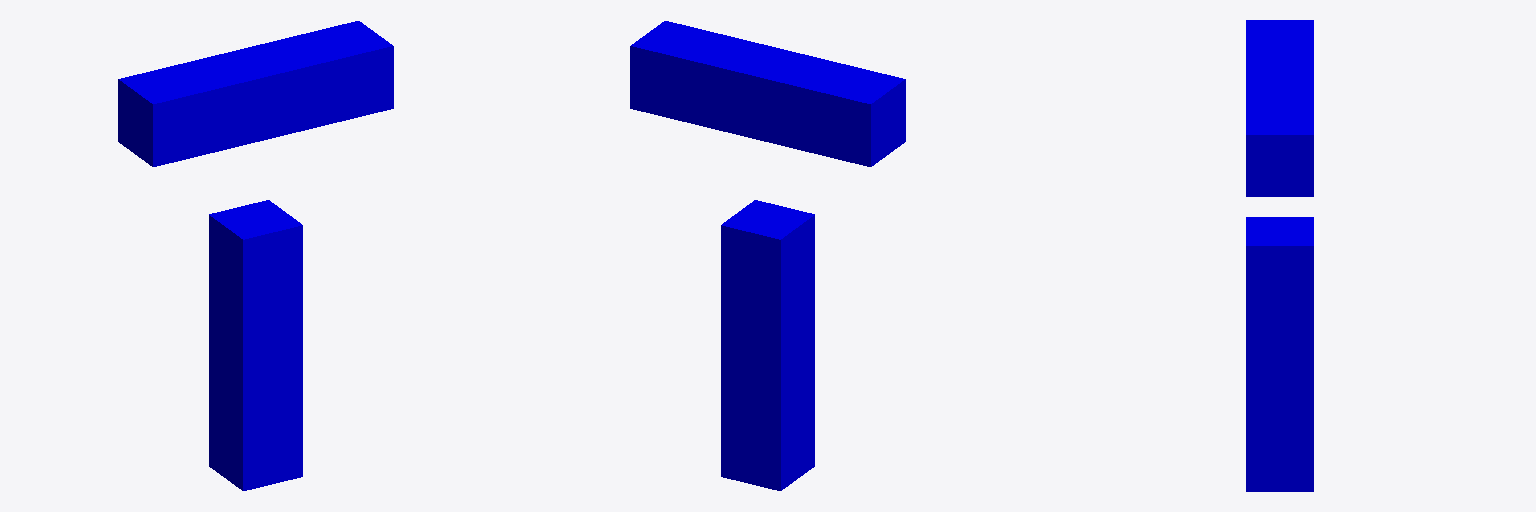
URDF robot description (suction_gripper):
<?xml version="1.0" ?>
<!-- =================================================================================== -->
<!-- |    This document was autogenerated by xacro from suction_gripper.xacro          | -->
<!-- |    EDITING THIS FILE BY HAND IS NOT RECOMMENDED                                 | -->
<!-- =================================================================================== -->
<robot name="suction_gripper" xmlns:xacro="http://www.ros.org/wiki/xacro">
  <material name="Blue">
    <color rgba="0 0 1 1"/>
  </material>
  <material name="Red">
    <color rgba="1 0 0 1"/>
  </material>
  <material name="Green">
    <color rgba="0 1 0 1"/>
  </material>
  <material name="Gray">
    <color rgba="0.8 0.8 0.8 1"/>
  </material>
  <material name="Yellow">
    <color rgba="1 1 0 1"/>
  </material>
  <link name="link_1">
    <inertial>
      <origin rpy="0 0 0" xyz="0 0 0"/>
      <mass value="1.0"/>
      <inertia ixx="1" ixy="0" ixz="0" iyy="1" iyz="0" izz="1"/>
    </inertial>
    <visual>
      <origin rpy="0 0 0" xyz="0 0 0"/>
      <geometry>
        <box size="1 1 4"/>
      </geometry>
      <material name="Blue"/>
    </visual>
    <collision>
      <origin rpy="0 0 0" xyz="0 0 0"/>
      <geometry>
        <box size="1 1 4"/>
      </geometry>
      <material name="Yellow"/>
    </collision>
  </link>
  <link name="link_2">
    <inertial>
      <origin rpy="0 0 0" xyz="0 0 0"/>
      <mass value="1.0"/>
      <inertia ixx="1" ixy="0" ixz="0" iyy="1" iyz="0" izz="1"/>
    </inertial>
    <visual>
      <origin rpy="0 0 0" xyz="0 0 0"/>
      <geometry>
        <box size="4 1 1"/>
      </geometry>
      <material name="Blue"/>
    </visual>
    <collision>
      <origin rpy="0 0 0" xyz="0 0 0"/>
      <geometry>
        <box size="4 1 1"/>
      </geometry>
      <material name="Yellow"/>
    </collision>
  </link>
  <joint name="joint_1" type="prismatic">
    <origin rpy="0 0 0" xyz="0 0 4"/>
    <parent link="link_1"/>
    <child link="link_2"/>
    <axis xyz="0 0 1"/>
    <limit effort="100" lower="0.0" upper="0.0" velocity="1"/>
  </joint>
</robot>

--- What the picture shows (computed from the rendered views, not written in the file) ---
The picture shows the robot from 3 angles, left to right: view 1: azimuth 30°, elevation 25°; view 2: azimuth 150°, elevation 25°; view 3: azimuth 270°, elevation 25°; orthographic projection.
Model suction_gripper with 2 links and 1 joints (1 prismatic), rooted at link_1, posed every joint at zero.
Links seen in each view (by area): view 1: link_1, link_2; view 2: link_1, link_2; view 3: link_1, link_2.
Boxes of the visible links, x1,y1,x2,y2 form: link_1: (209,200,302,490); link_2: (118,21,393,166); link_1: (721,200,814,490); link_2: (630,21,905,166); link_1: (1246,217,1313,491); link_2: (1246,20,1313,196).
Size in the robot's own frame: 4 by 1 by 6.5 metres.
Geometry: primitives only (box / cylinder / sphere), no mesh files.